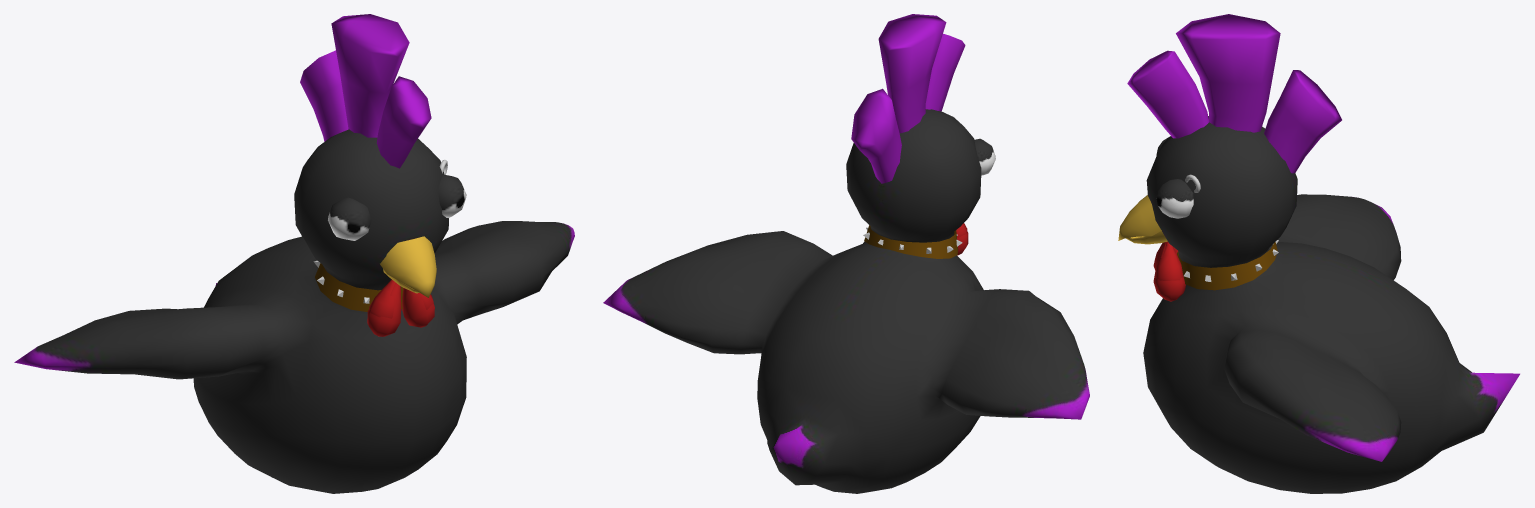
The model's file is Punk 1.fbx.
3 renders of one model, left to right at view 1: azimuth 30°, elevation 25°; view 2: azimuth 150°, elevation 25°; view 3: azimuth 270°, elevation 25°, orthographic. The views are drawn at different scales.
Visible parts, largest first — view 1: Punk; view 2: Punk; view 3: Punk.
Boxes of the visible parts, left/top/right/bottom form: Punk: left=14, top=14, right=574, bottom=493; Punk: left=603, top=14, right=1089, bottom=493; Punk: left=1118, top=14, right=1519, bottom=493.
Size of the model in its own units: 130 by 109 by 86.53.
1 material, 1 textured.
